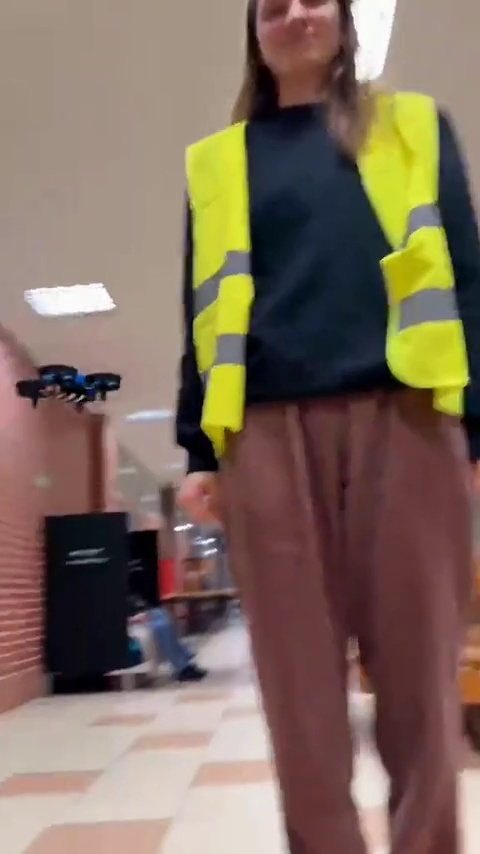drone: (18, 370, 119, 411)
vest: (185, 69, 480, 848)
